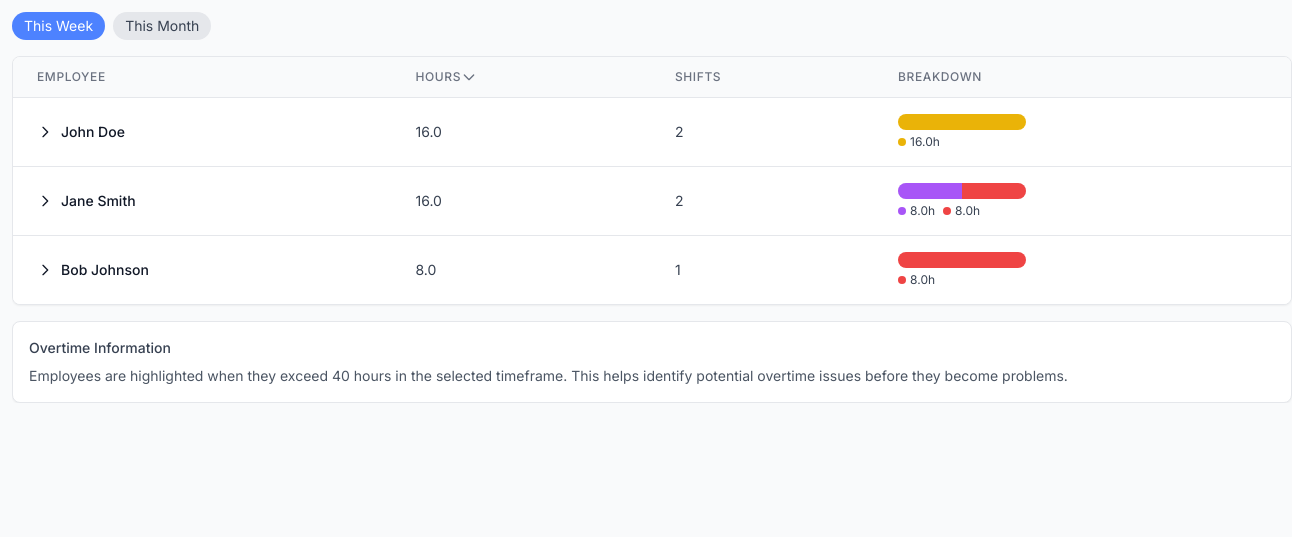
Test: EmployeeHoursView Component › Expandable Employee Details › should collapse details when clicking expanded employee again
Click the text "John Doe" at [81, 132], box [37,123,125,140]
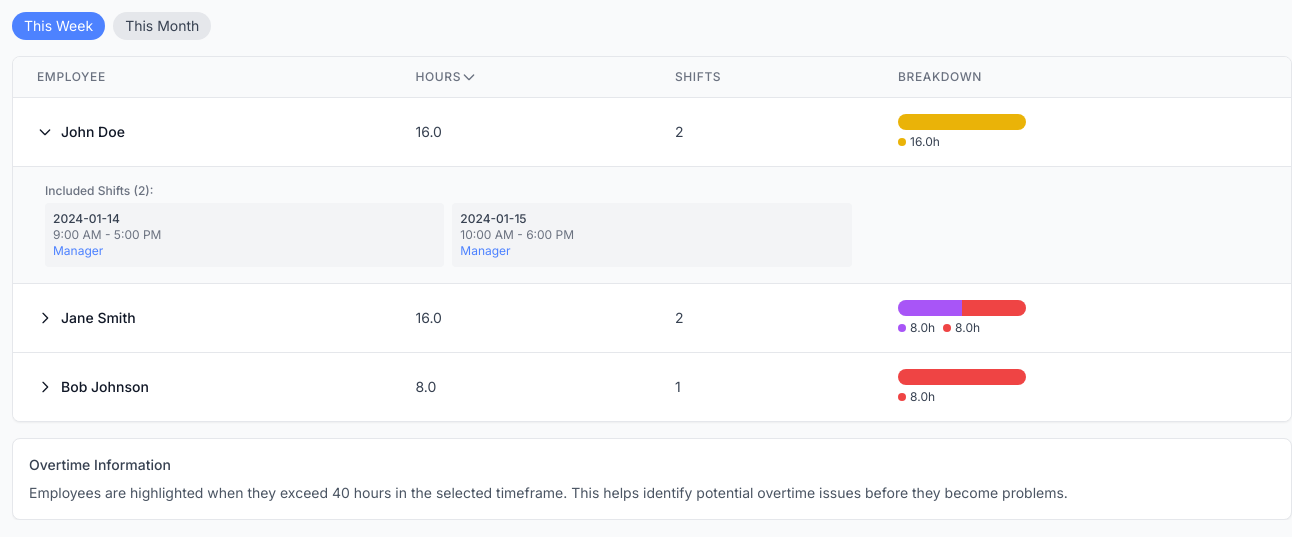
Now the text "Included Shifts (2):" is shown, box [45,183,153,198]
Click the text "John Doe" at [81, 132], box [37,123,125,140]
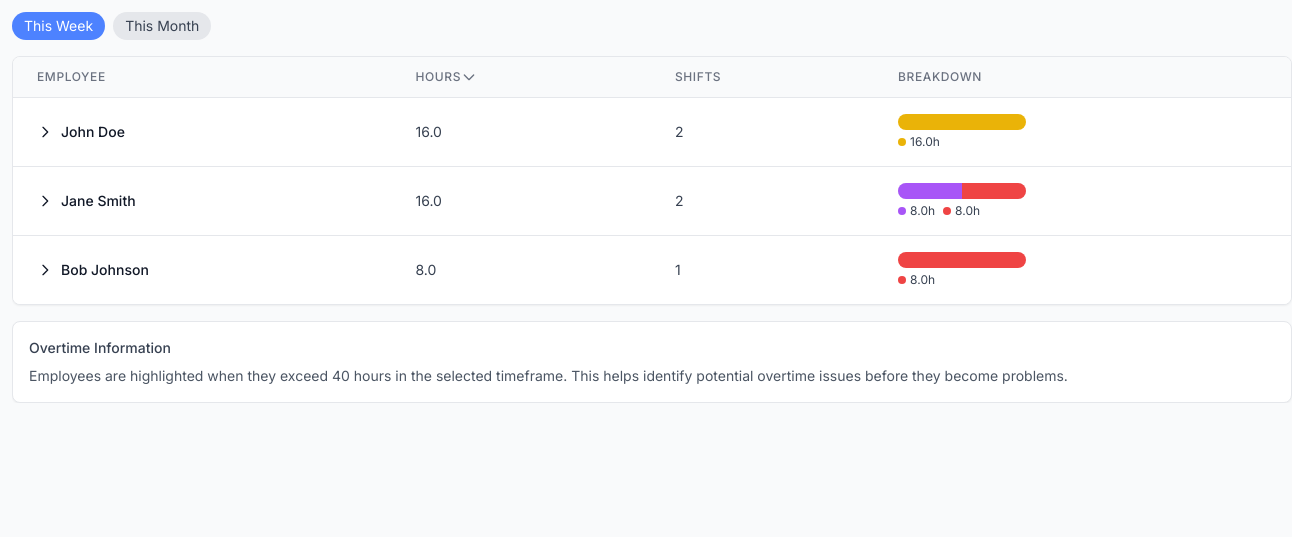
Now the text "Included Shifts (2):" is gone
